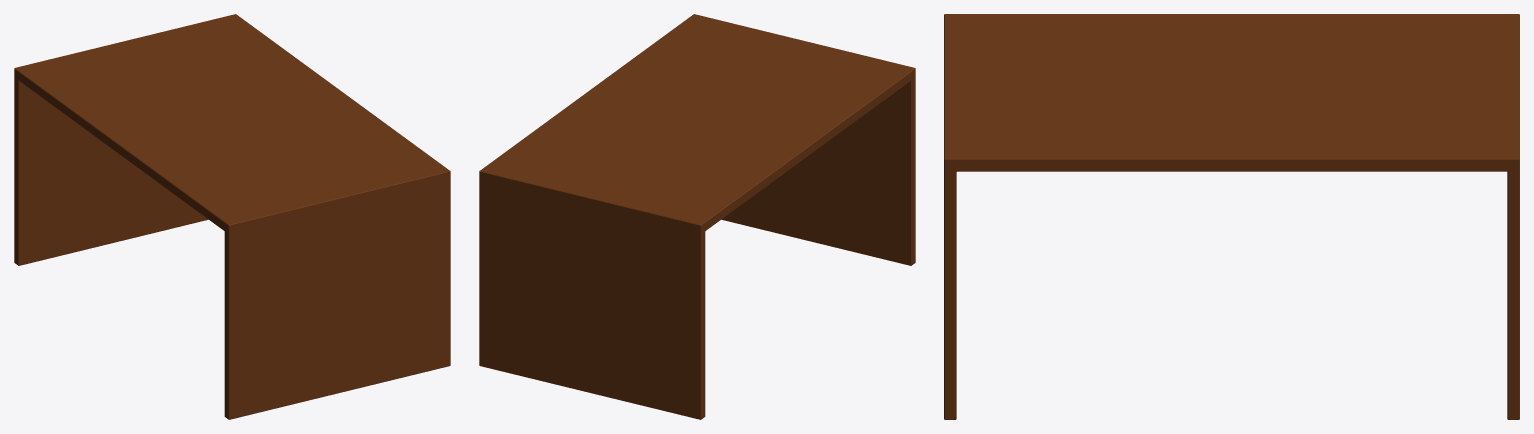
The model's file is Desk.fbx.
The picture shows the model from 3 angles, left to right: view 1: azimuth 30°, elevation 25°; view 2: azimuth 150°, elevation 25°; view 3: azimuth 270°, elevation 25°; orthographic projection. The views are drawn at different scales.
Visible parts, largest first — view 1: Cube.030; view 2: Cube.030; view 3: Cube.030.
Boxes of the visible parts, left/top/right/bottom form: Cube.030: left=14, top=14, right=450, bottom=419; Cube.030: left=479, top=14, right=915, bottom=419; Cube.030: left=944, top=14, right=1519, bottom=419.
Size of the model in its own units: 200 by 168 by 335.
